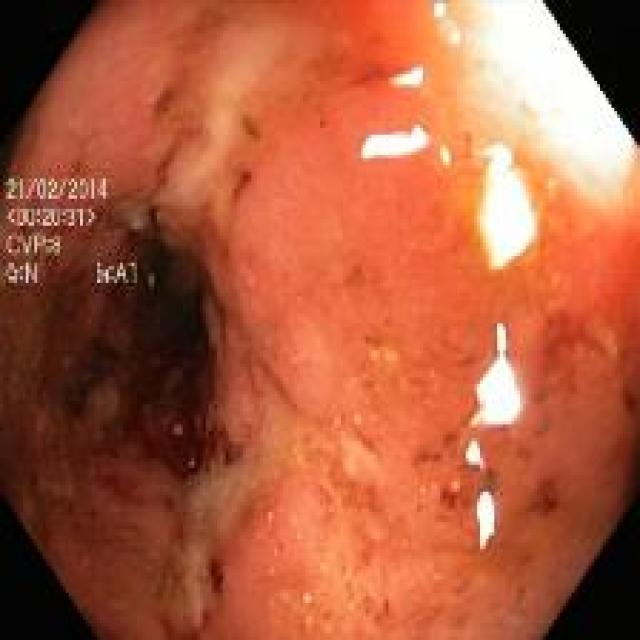ulcerative-colitis-grade-2-3: (0, 1, 639, 637)
